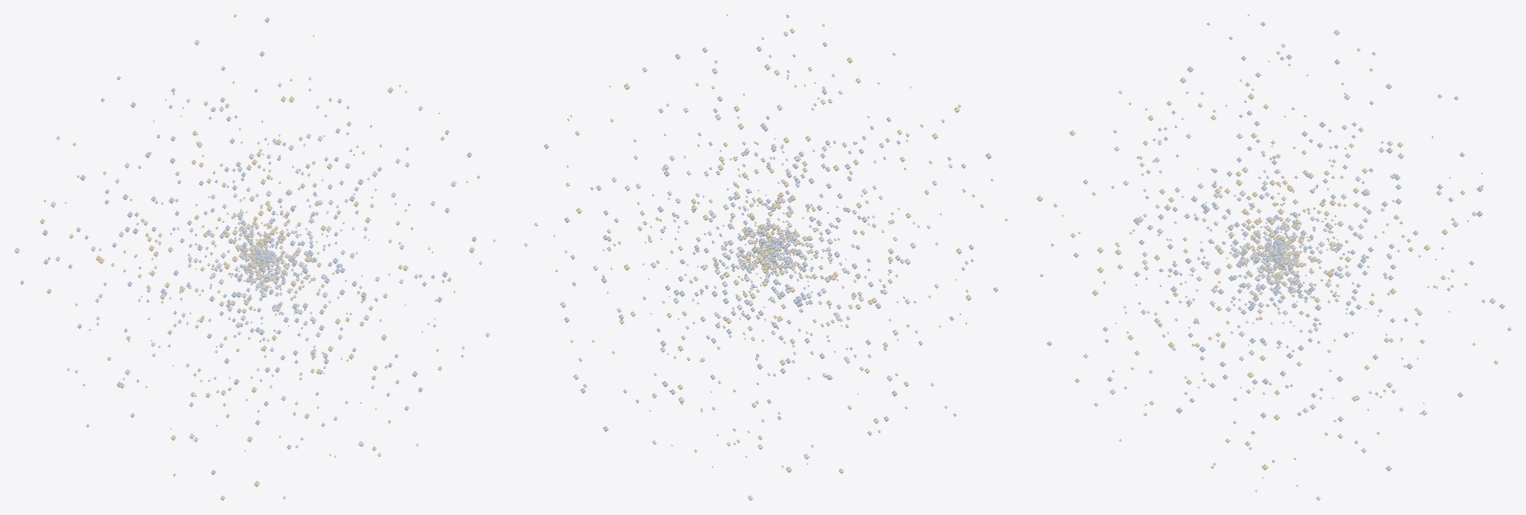
The picture shows the model from 3 angles, left to right: view 1: azimuth 30°, elevation 25°; view 2: azimuth 150°, elevation 25°; view 3: azimuth 270°, elevation 25°; orthographic projection. The views are drawn at different scales.
Size of the model in its own units: 5.04 by 5.07 by 4.98.
